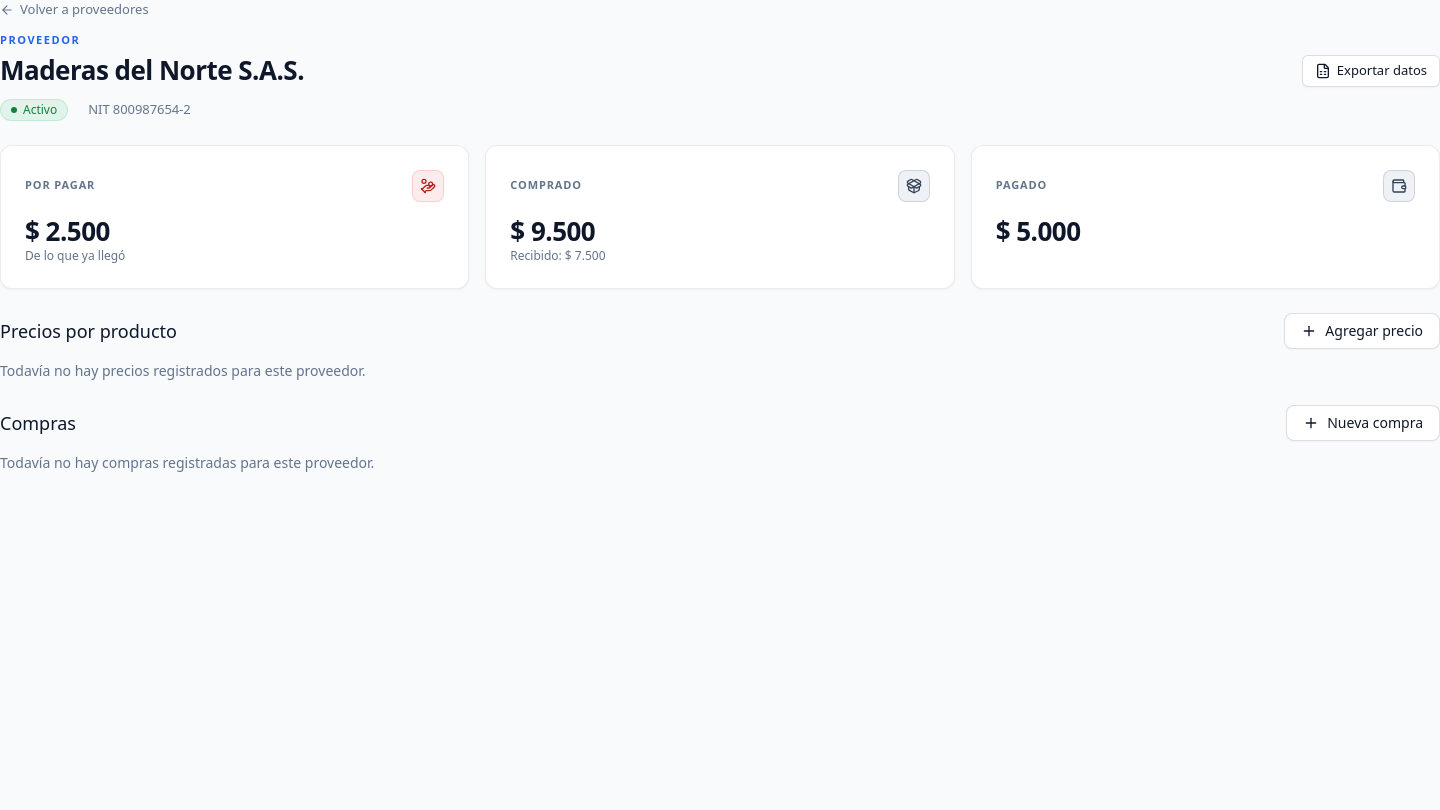
Test: SupplierDetailPage › opens the "Agregar precio" modal for an ADMIN user
The width and height of the screenshot is (1440, 810).
Click the button "Agregar precio": [1362, 330] box 1284,312 -> 1439,348
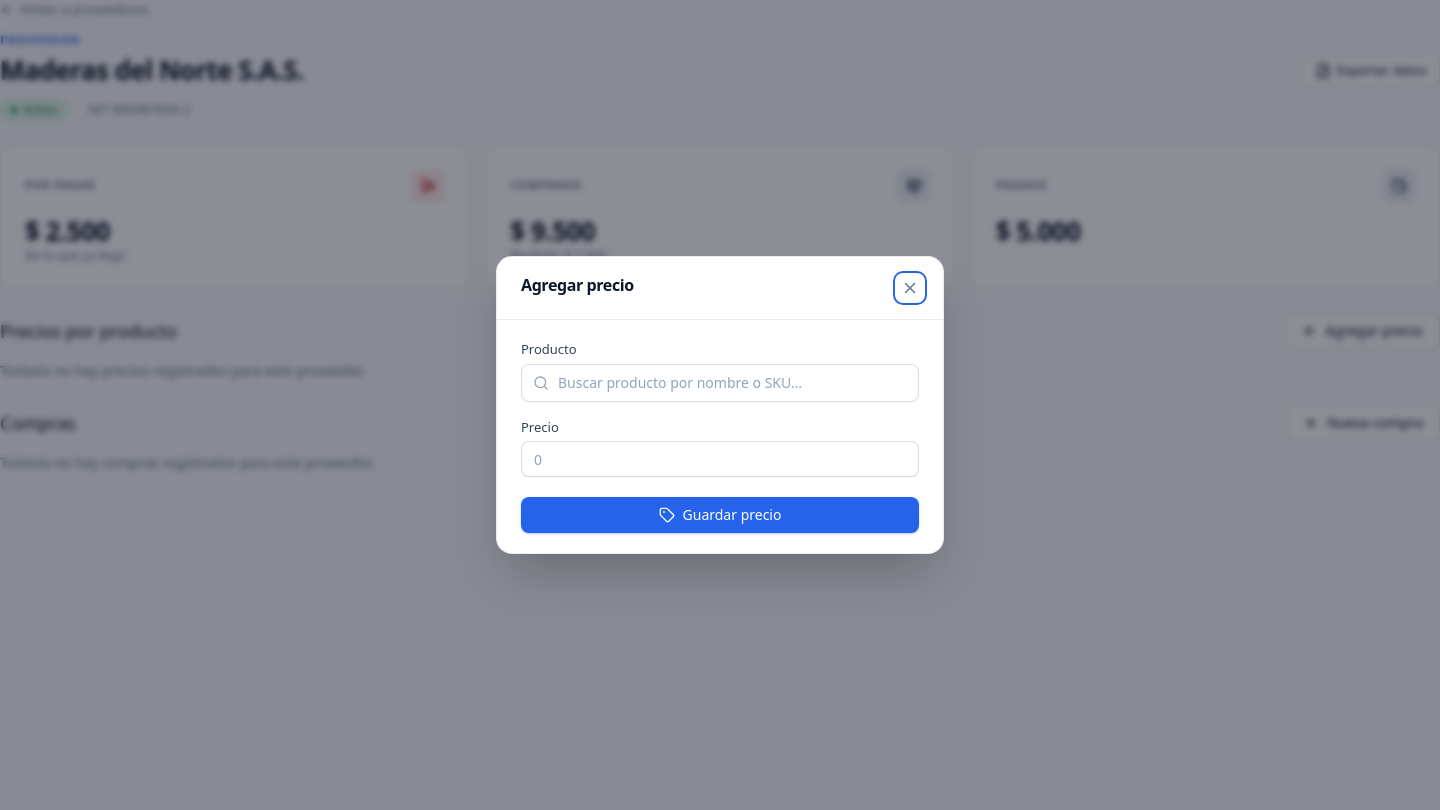
Expected: the dialog "Agregar precio" is shown, 496,256 -> 944,554
